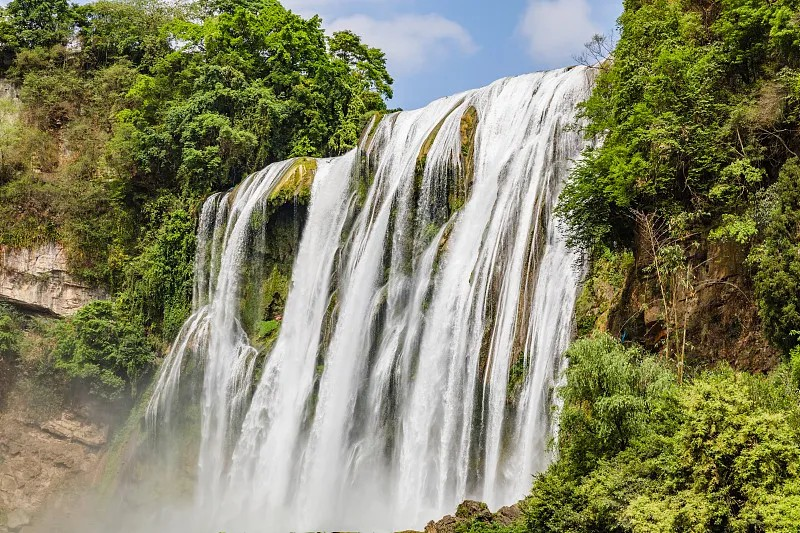Huangguoshu: (148, 63, 598, 533)
